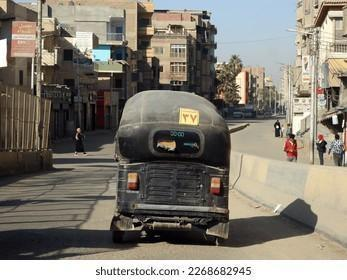keke: (108, 90, 239, 248)
